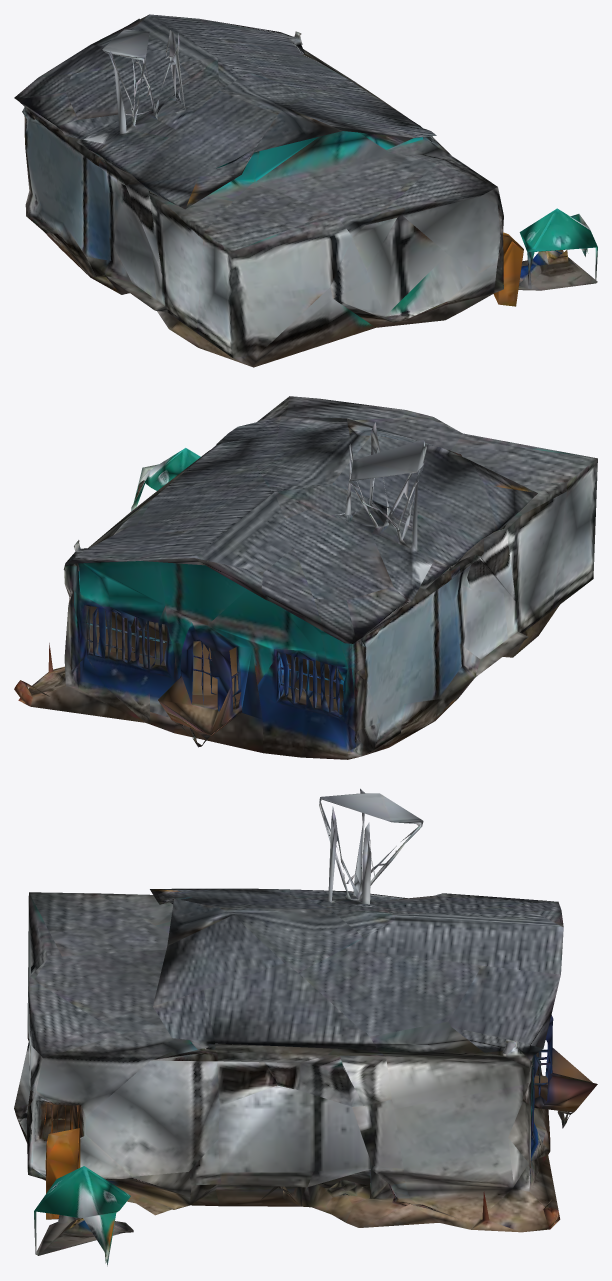
Rendered from maison-tole.glb.
3 views of the same model, one above another, from view 1: azimuth 30°, elevation 25°; view 2: azimuth 150°, elevation 25°; view 3: azimuth 270°, elevation 25° (orthographic). The views are drawn at different scales.
Parts seen in each view (by area): view 1: tripo_node_0dbbc56c-3a94-4ce1-9e6a-0a18c27537ab; view 2: tripo_node_0dbbc56c-3a94-4ce1-9e6a-0a18c27537ab; view 3: tripo_node_0dbbc56c-3a94-4ce1-9e6a-0a18c27537ab.
Boxes of the visible parts, bbox=[...] form: tripo_node_0dbbc56c-3a94-4ce1-9e6a-0a18c27537ab: bbox=[14, 14, 597, 367]; tripo_node_0dbbc56c-3a94-4ce1-9e6a-0a18c27537ab: bbox=[14, 396, 597, 759]; tripo_node_0dbbc56c-3a94-4ce1-9e6a-0a18c27537ab: bbox=[14, 788, 597, 1266].
Bounding box in the file's own units: 0.8385 × 0.4877 × 0.8928.
1 material, 1 textured.
